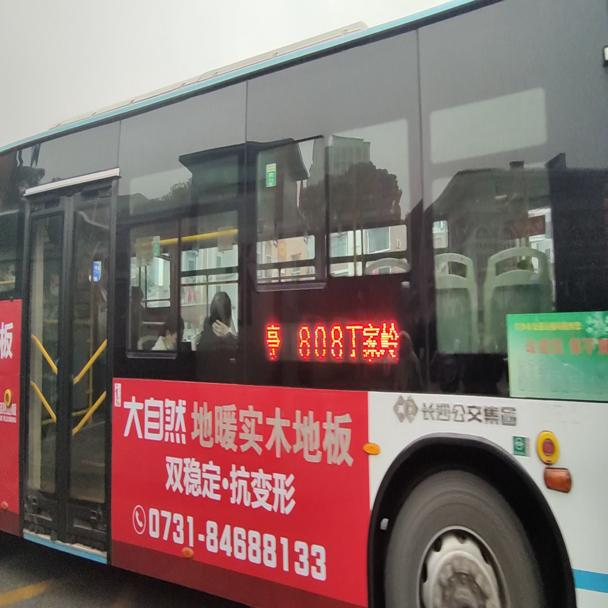bus: (3, 9, 605, 605)
screen: (294, 324, 344, 360)
